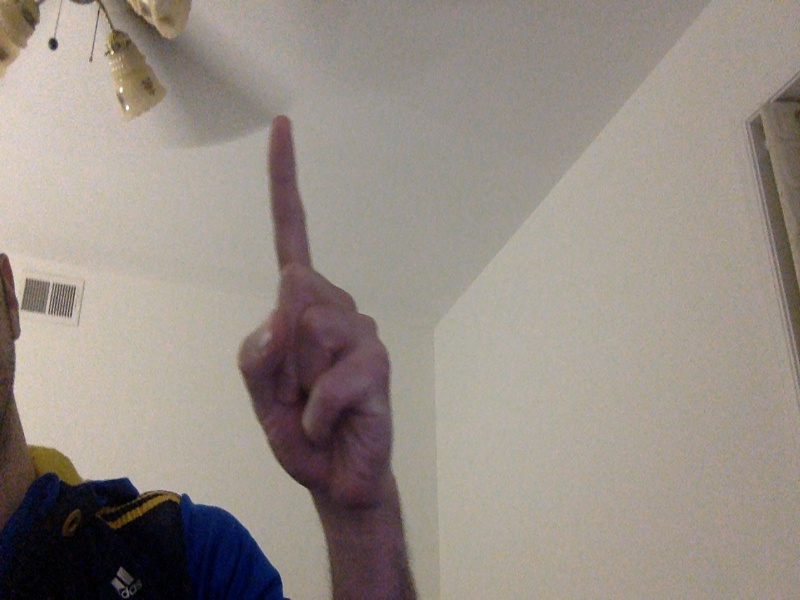1-hand: (241, 115, 396, 504)
